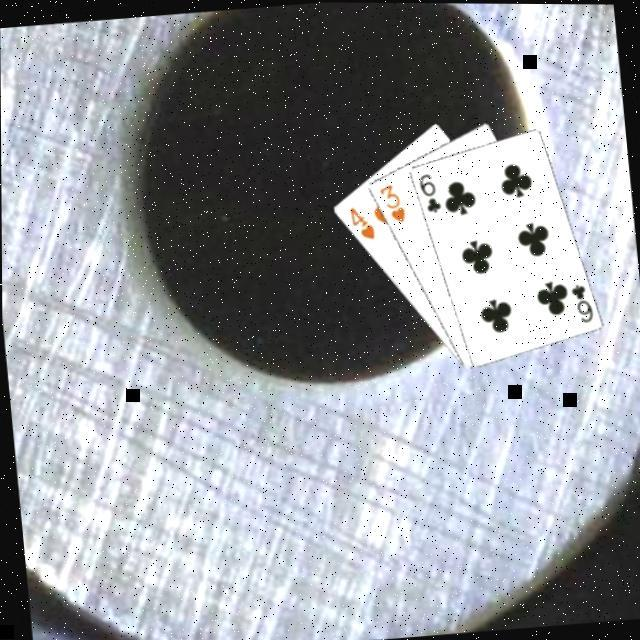3H: (372, 177, 406, 224)
4H: (342, 200, 376, 242)
6C: (412, 166, 441, 214), (564, 277, 593, 323)
